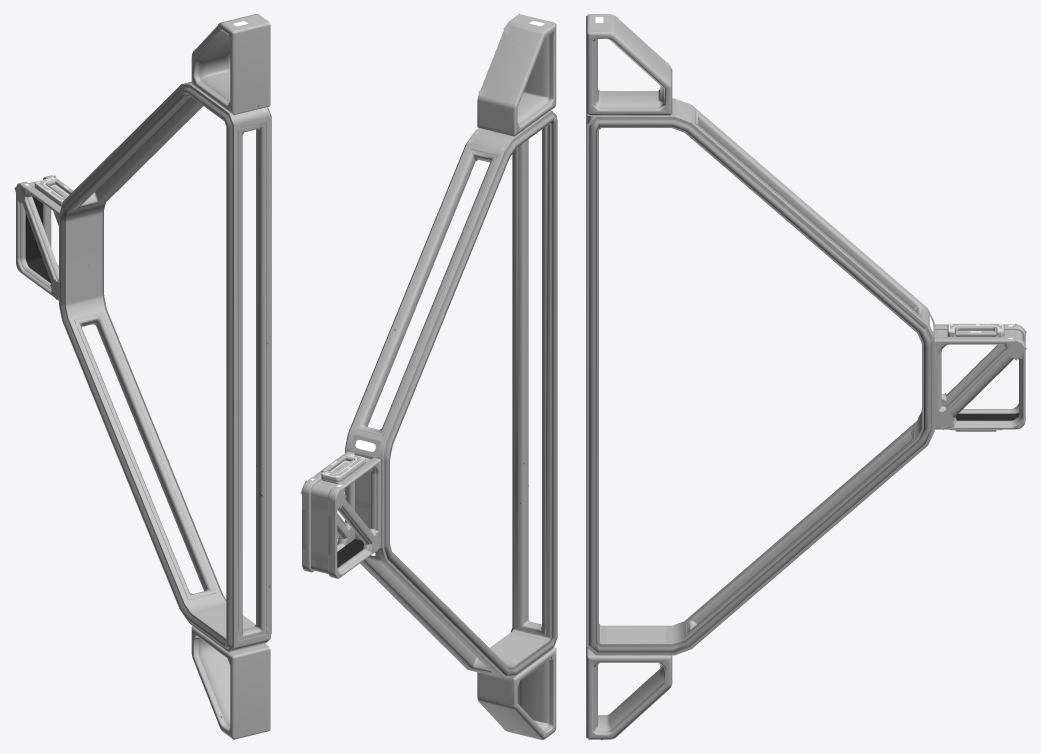
File: SM_WallBracket_Merged.fbx
3 views of the same model, side by side, from view 1: azimuth 30°, elevation 25°; view 2: azimuth 150°, elevation 25°; view 3: azimuth 270°, elevation 25° (orthographic).
Parts seen in each view (by area): view 1: SM_WallBracket_Merged_LOD0; view 2: SM_WallBracket_Merged_LOD0; view 3: SM_WallBracket_Merged_LOD0.
Part boxes in pixels (x1,y1,x2,y2): SM_WallBracket_Merged_LOD0: (14, 14, 271, 739); SM_WallBracket_Merged_LOD0: (300, 14, 557, 739); SM_WallBracket_Merged_LOD0: (586, 14, 1026, 739).
Size of the model in its own units: 19.53 by 174 by 308.
